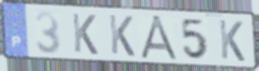3: (33, 9, 62, 56)
5: (181, 17, 211, 60)
A: (138, 14, 182, 61)
K: (70, 11, 100, 57), (217, 18, 247, 63), (107, 13, 137, 58)
